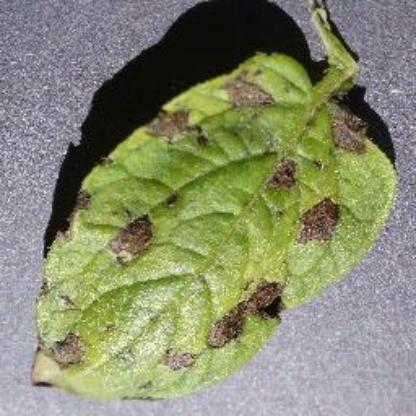Early-Blight: (29, 8, 396, 404)
